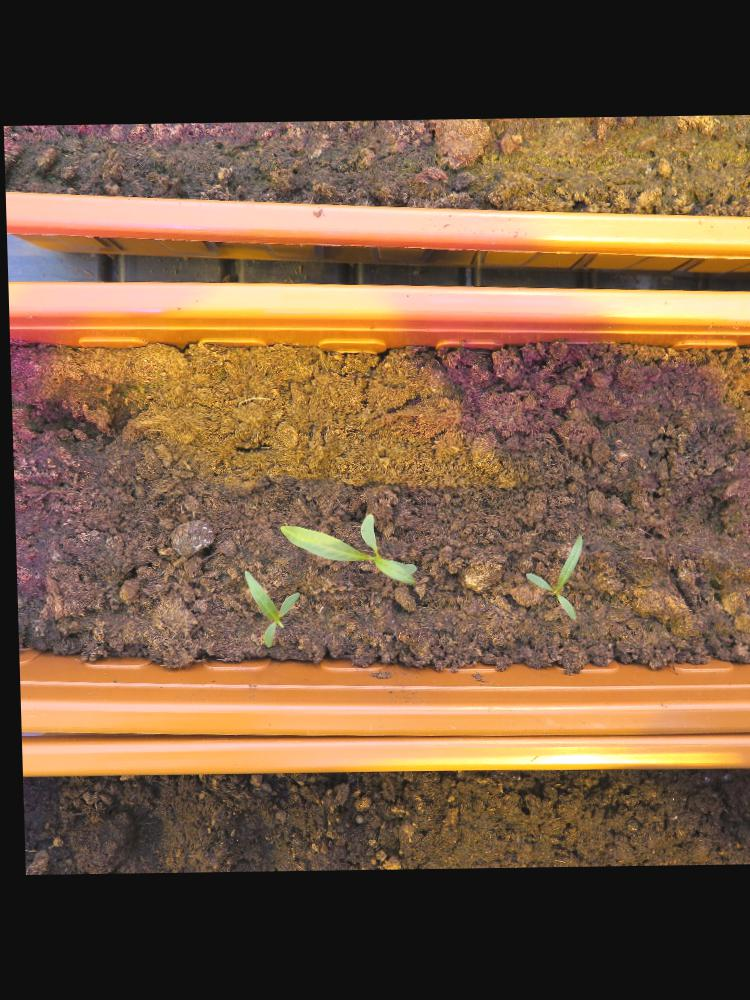weed: (271, 514, 415, 588), (516, 535, 584, 623), (236, 571, 302, 649)
